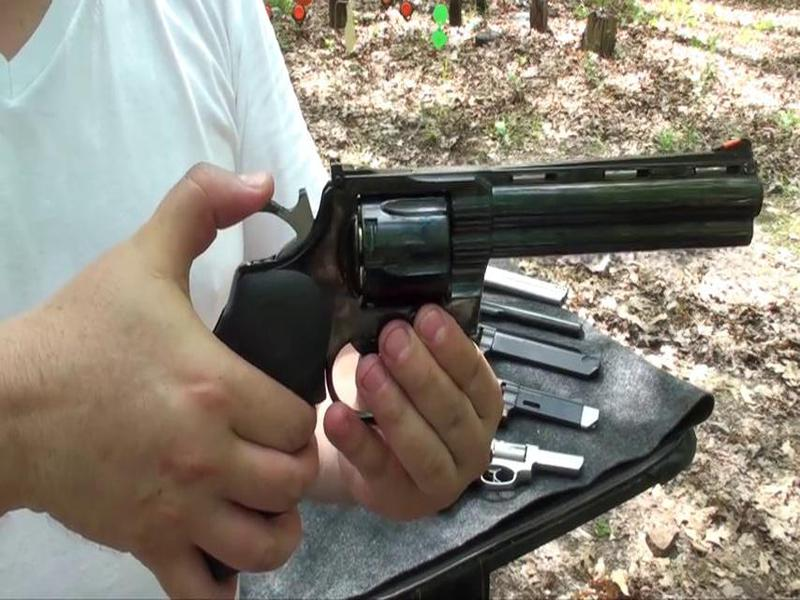Revolver: (224, 142, 774, 391)
